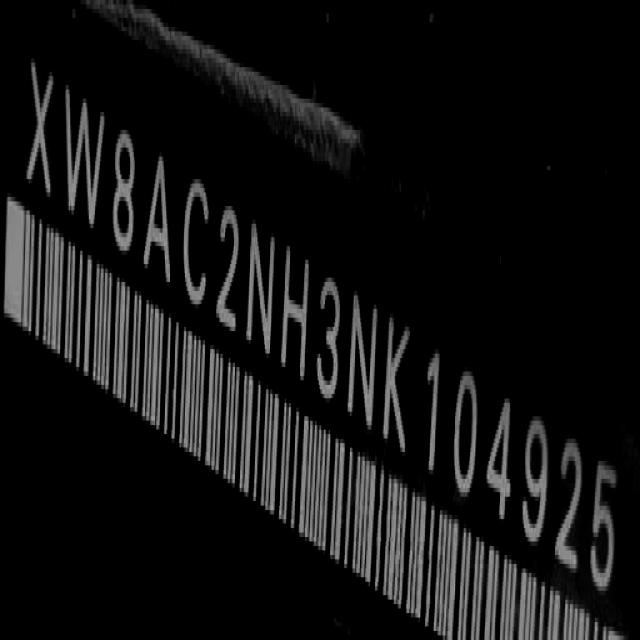0: (454, 358, 481, 506)
1: (486, 377, 513, 537), (423, 338, 442, 487)
2: (556, 430, 586, 584), (216, 197, 242, 348)
3: (316, 270, 343, 409)
5: (592, 447, 622, 602)
8: (112, 126, 138, 264)
9: (523, 406, 549, 562)
A: (146, 147, 176, 294)
C: (182, 174, 212, 320)
H: (281, 237, 312, 388)
K: (382, 315, 410, 469)
N: (348, 284, 382, 438), (248, 217, 279, 370)
W: (62, 78, 103, 240)
X: (25, 55, 55, 216)
